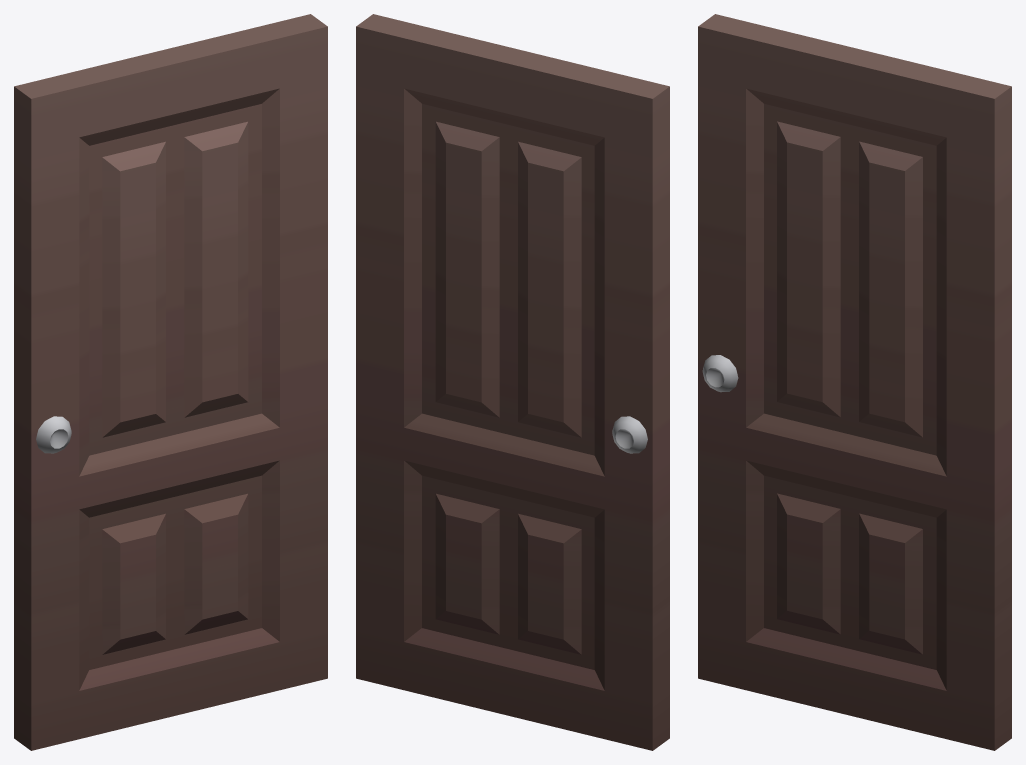
File: Door_Brown_03.glb
3 views of the same model, side by side, from view 1: azimuth 30°, elevation 25°; view 2: azimuth 150°, elevation 25°; view 3: azimuth 330°, elevation 25° (orthographic).
Parts seen in each view (by area): view 1: Door_Brown_03; view 2: Door_Brown_03; view 3: Door_Brown_03.
Part boxes in pixels (x1,y1,x2,y2): Door_Brown_03: (14,14,327,750); Door_Brown_03: (356,14,669,750); Door_Brown_03: (698,14,1011,750).
Bounding box in the file's own units: 1 × 2.1 × 0.1634.
1 material, 1 textured.
